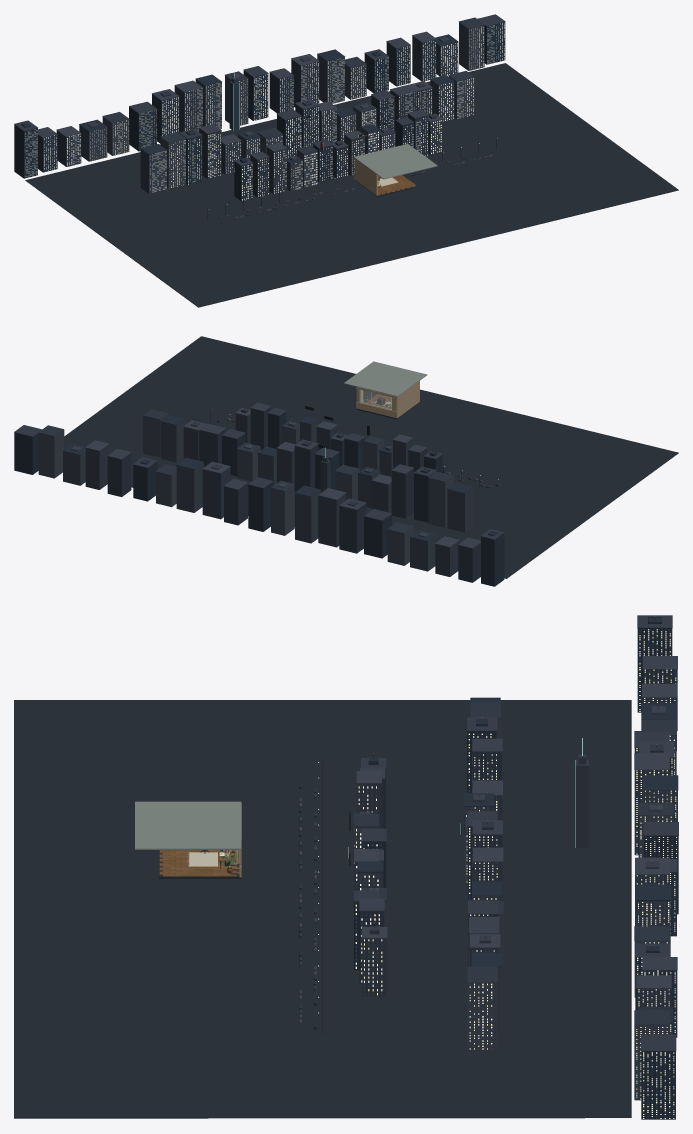
The model's file is room.glb.
3 renders of one model, top to bottom at view 1: azimuth 30°, elevation 25°; view 2: azimuth 150°, elevation 25°; view 3: azimuth 270°, elevation 25°, orthographic. The views are drawn at different scales.
Parts seen in each view (by area): view 1: MERGED 14 • Midnight city / editable architecture, MERGED 01 • Room architecture; view 2: MERGED 14 • Midnight city / editable architecture, MERGED 01 • Room architecture, MERGED 02 • Window, curtains & wet glass; view 3: MERGED 14 • Midnight city / editable architecture, MERGED 01 • Room architecture.
Boxes of the visible parts, x1,y1,x2,y2 form: MERGED 14 • Midnight city / editable architecture: [14, 14, 678, 307]; MERGED 01 • Room architecture: [354, 144, 437, 196]; MERGED 14 • Midnight city / editable architecture: [14, 336, 678, 586]; MERGED 01 • Room architecture: [344, 361, 427, 419]; MERGED 02 • Window, curtains & wet glass: [359, 389, 392, 410]; MERGED 14 • Midnight city / editable architecture: [14, 615, 678, 1119]; MERGED 01 • Room architecture: [135, 801, 241, 878].
Size of the model in its own units: 80.44 by 11.89 by 53.82.
